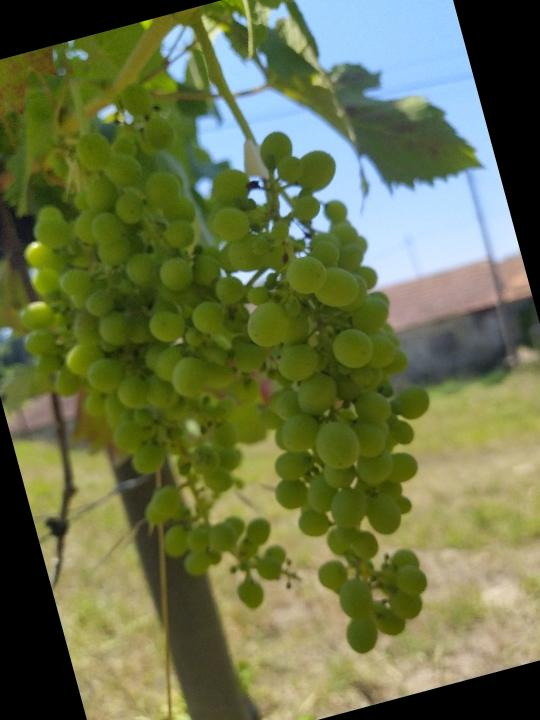grape: (0, 75, 314, 651), (182, 109, 492, 671)
